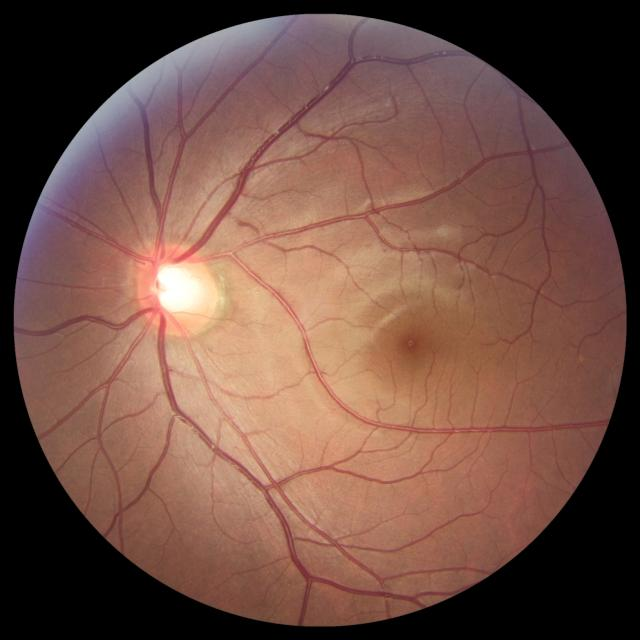OC: (152, 264, 200, 314)
OD: (134, 243, 217, 337)
